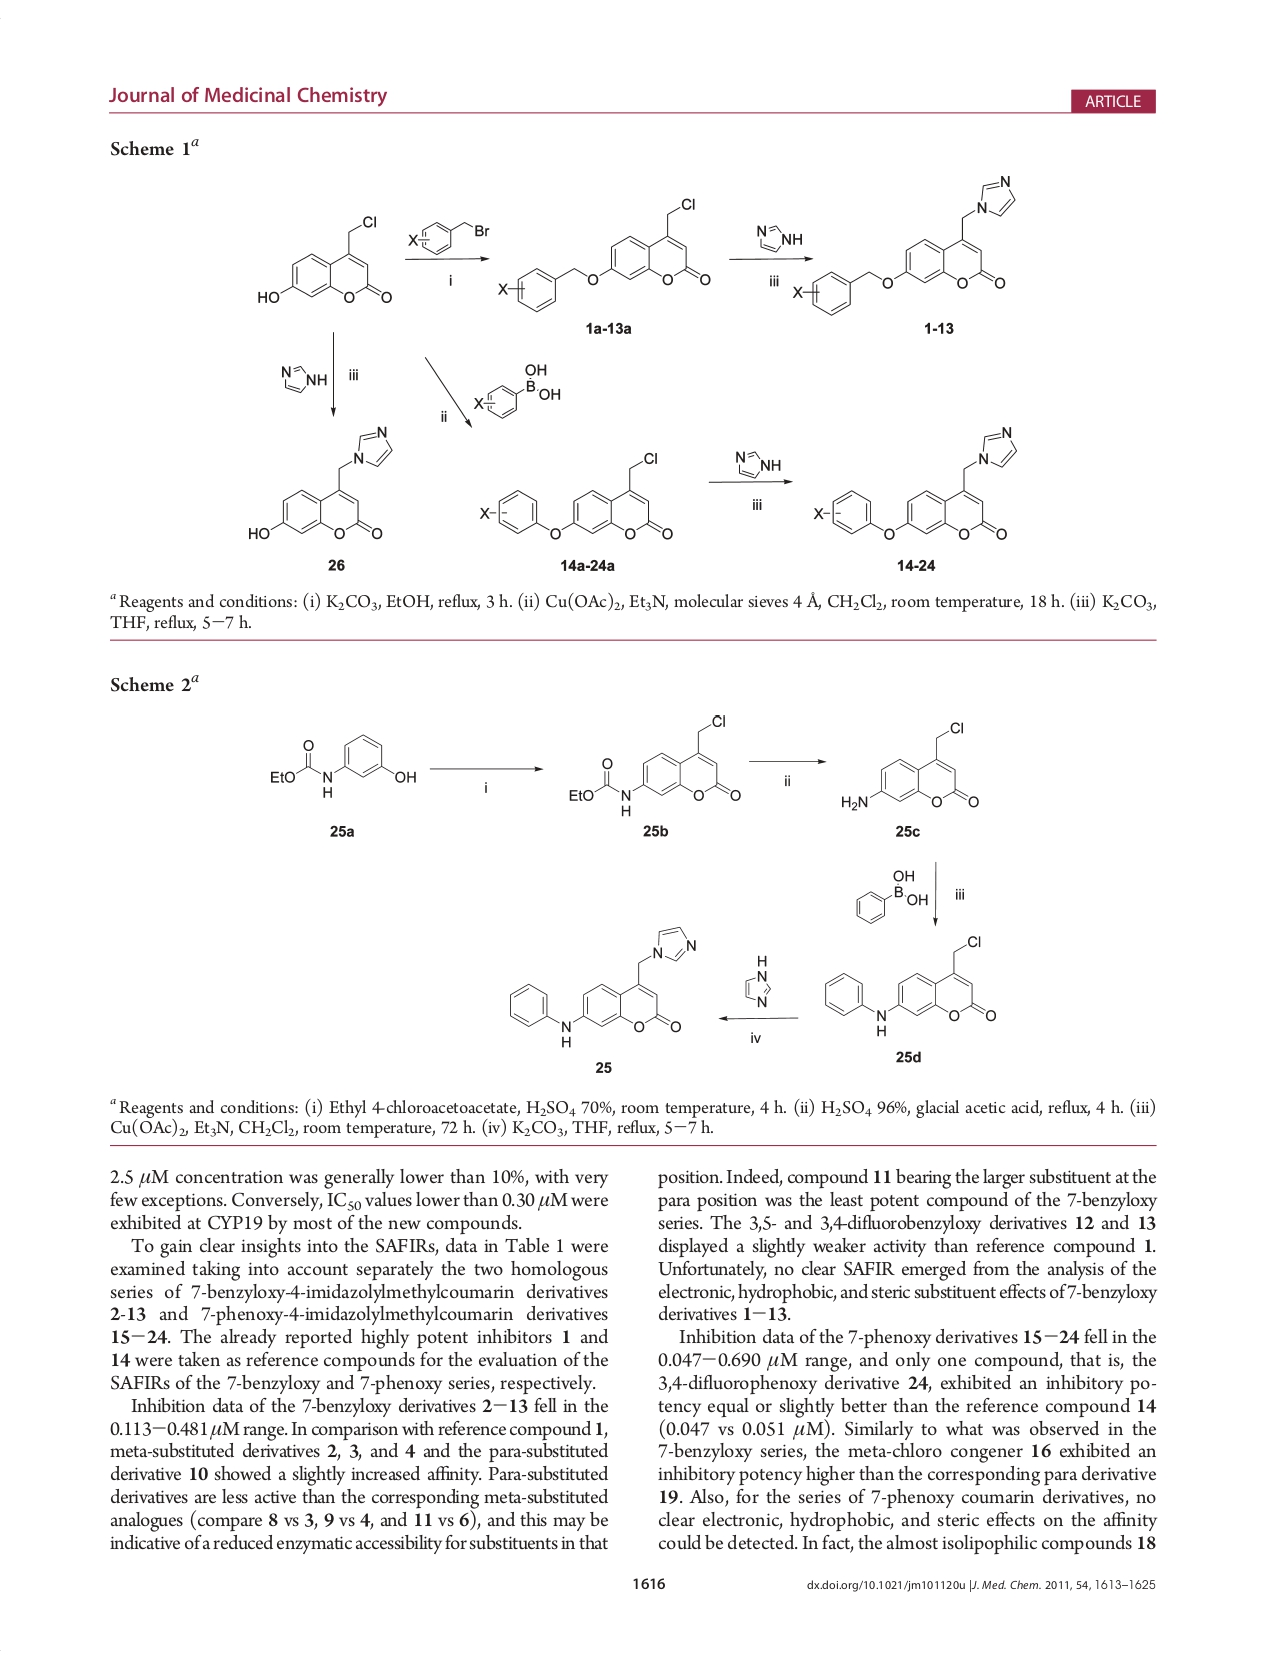exist_molecular: (789, 170, 1019, 318), (813, 424, 1021, 552), (493, 197, 717, 315), (505, 919, 699, 1053), (477, 449, 676, 552), (563, 710, 741, 818), (243, 422, 394, 549), (821, 934, 997, 1040), (836, 714, 981, 817), (257, 211, 395, 317), (263, 727, 424, 802), (469, 358, 565, 419), (850, 864, 932, 926), (406, 207, 495, 255), (273, 354, 328, 398), (737, 950, 777, 1009), (751, 219, 805, 254), (727, 446, 781, 479)
